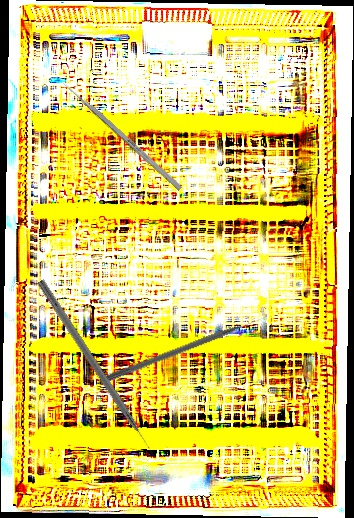Hook Surgical: (35, 278, 159, 461)
Pusher: (55, 75, 183, 191), (103, 314, 266, 385)
